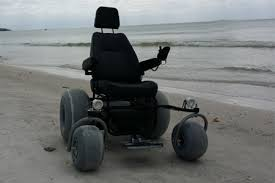wheelchair: (57, 33, 169, 168)
